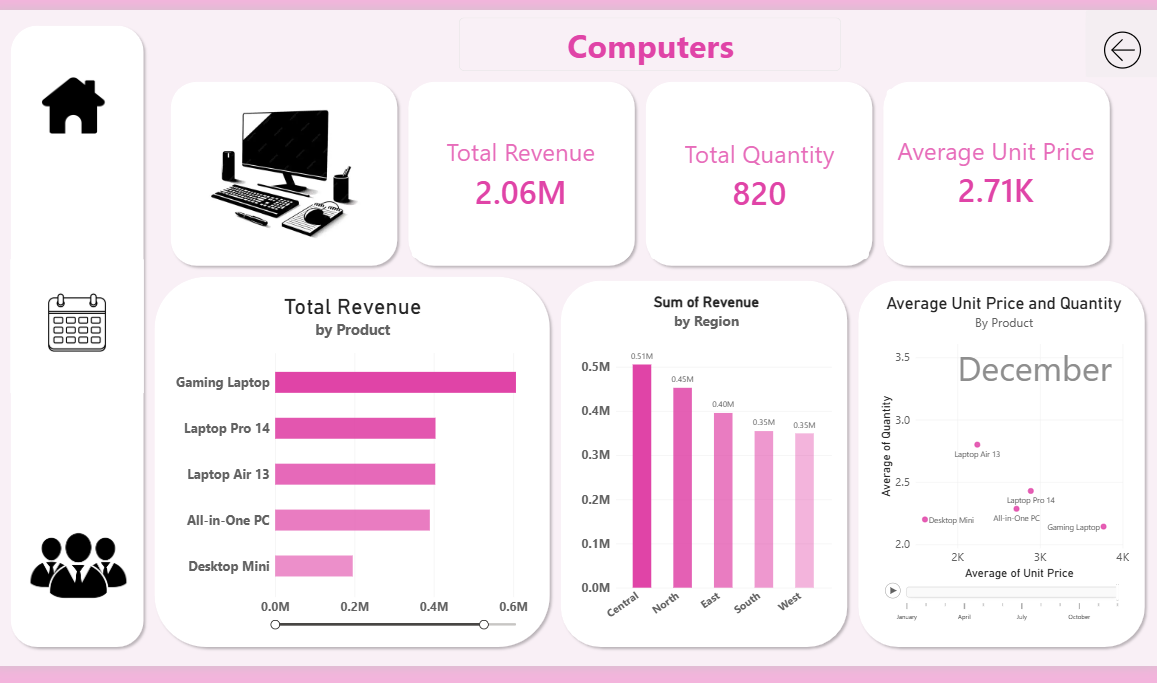

This screenshot's page, from the dashboard's own definition file:
{"tool":"powerbi","page":{"name":"Computers","canvas":[1920,1080],"ordinal":2},"visuals":[{"type":"shape","box":[18.5,16.5,236.7,1041.5],"z":0},{"type":"shape","box":[282,109.1,391.1,321.1],"z":1000},{"type":"shape","box":[673.1,109.1,391.1,321.1],"z":2000},{"type":"shape","box":[1064.2,109.1,391.1,321.1],"z":3000},{"type":"shape","box":[1455.2,109.1,391.1,321.1],"z":4000},{"type":"shape","box":[255.2,430.2,669,627.8],"z":5000},{"type":"shape","box":[1414.1,436.4,489.9,621.6],"z":6000},{"type":"shape","box":[924.2,436.4,489.9,621.6],"z":7000},{"type":"cardVisual","fields":{"Data":["Sum(Table1.Revenue)"]},"box":[687.5,131.7,360.2,277.9],"z":8000},{"type":"cardVisual","fields":{"Data":["Sum(Table1.Quantity)"]},"box":[1080.6,133.8,360.2,277.9],"z":9000},{"type":"cardVisual","fields":{"Data":["Avg(Table1.Unit Price)"]},"box":[1469.6,129.7,360.2,277.9],"z":10000},{"type":"barChart","title":"Total Revenue","fields":{"Category":["Table1.Product"],"Y":["Sum(Table1.Revenue)"]},"box":[282,452.8,617.5,580.4],"z":11000},{"type":"columnChart","fields":{"Category":["Table1.Region"],"Y":["Sum(Table1.Revenue)"]},"box":[950.9,452.8,444.6,580.4],"z":12000},{"type":"scatterChart","title":"Average  Unit Price and Quantity","fields":{"Category":["Table1.Product"],"Play":["Table1.Date.Variation.Date Hierarchy.Month"],"X":["Avg(Table1.Unit Price)"],"Y":["Avg(Table1.Quantity)"]},"box":[1440.8,452.8,444.6,580.4],"z":13000},{"type":"cardVisual","fields":{"Data":["Min(Table1.Product Category)"]},"box":[765.7,12.3,629.8,88.5],"z":14000},{"type":"image","box":[302.6,119.4,352,288.2],"z":15000},{"type":"actionButton","box":[1796.5,0,123.5,90.6],"z":16000},{"type":"actionButton","box":[1796.5,10,123.5,90.6],"z":17000},{"type":"actionButton","box":[1796.5,20,123.5,90.6],"z":18000},{"type":"image","box":[37,45.3,187.3,224.4],"z":19000},{"type":"image","box":[37,817.2,203.8,195.5],"z":20000},{"type":"image","box":[26.8,393.1,220.2,255.2],"z":21000}]}

Visuals, with their boxes on the page's 1920x1080 design canvas (x1, y1, x2, y2). These are canvas units, not pixel positions in the 1157x683 screenshot, which may show the page scaled, cropped or inside an application window:
shape: rect(18, 16, 255, 1058)
shape: rect(282, 109, 673, 430)
shape: rect(673, 109, 1064, 430)
shape: rect(1064, 109, 1455, 430)
shape: rect(1455, 109, 1846, 430)
shape: rect(255, 430, 924, 1058)
shape: rect(1414, 436, 1904, 1058)
shape: rect(924, 436, 1414, 1058)
cardVisual - Sum(Table1.Revenue): rect(688, 132, 1048, 410)
cardVisual - Sum(Table1.Quantity): rect(1081, 134, 1441, 412)
cardVisual - Avg(Table1.Unit Price): rect(1470, 130, 1830, 408)
"Total Revenue" barChart: rect(282, 453, 900, 1033)
columnChart - Table1.Region x Sum(Table1.Revenue): rect(951, 453, 1396, 1033)
"Average  Unit Price and Quantity" scatterChart: rect(1441, 453, 1885, 1033)
cardVisual - Min(Table1.Product Category): rect(766, 12, 1396, 101)
image: rect(303, 119, 655, 408)
actionButton: rect(1796, 0, 1920, 91)
actionButton: rect(1796, 10, 1920, 101)
actionButton: rect(1796, 20, 1920, 111)
image: rect(37, 45, 224, 270)
image: rect(37, 817, 241, 1013)
image: rect(27, 393, 247, 648)
